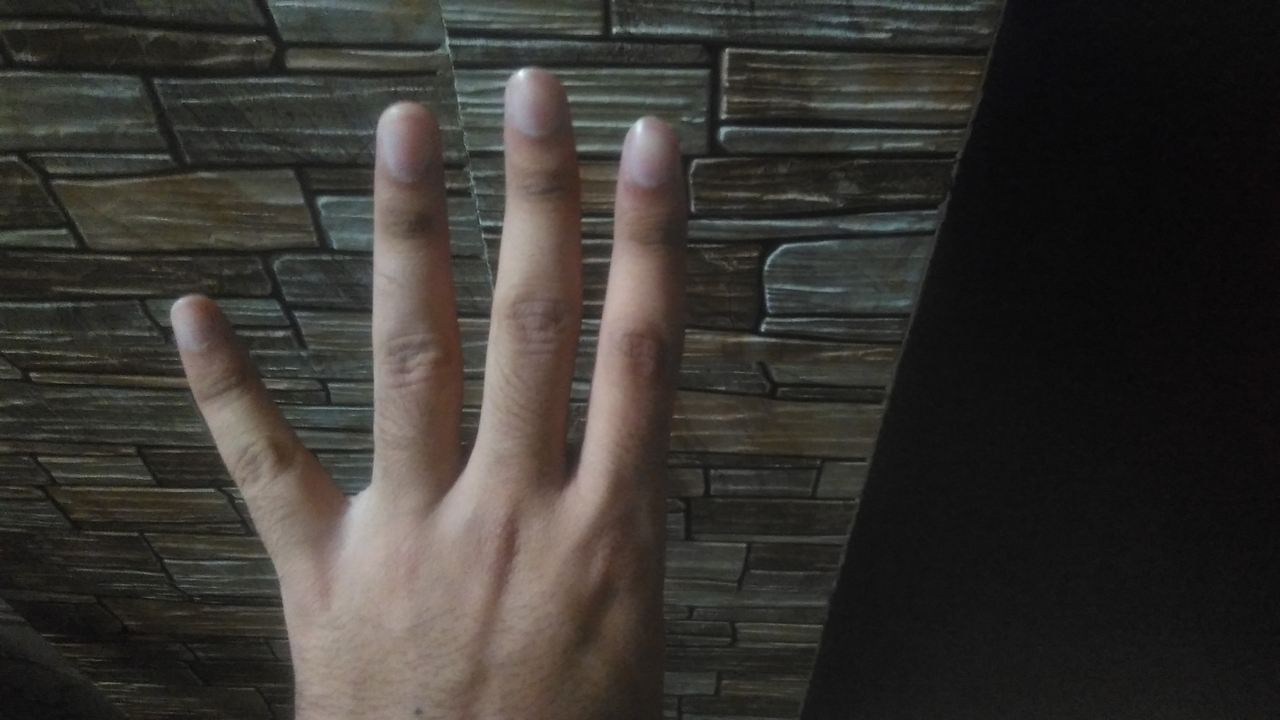fingertip: (366, 98, 436, 168), (612, 110, 682, 178), (498, 60, 566, 128), (166, 290, 222, 354)
